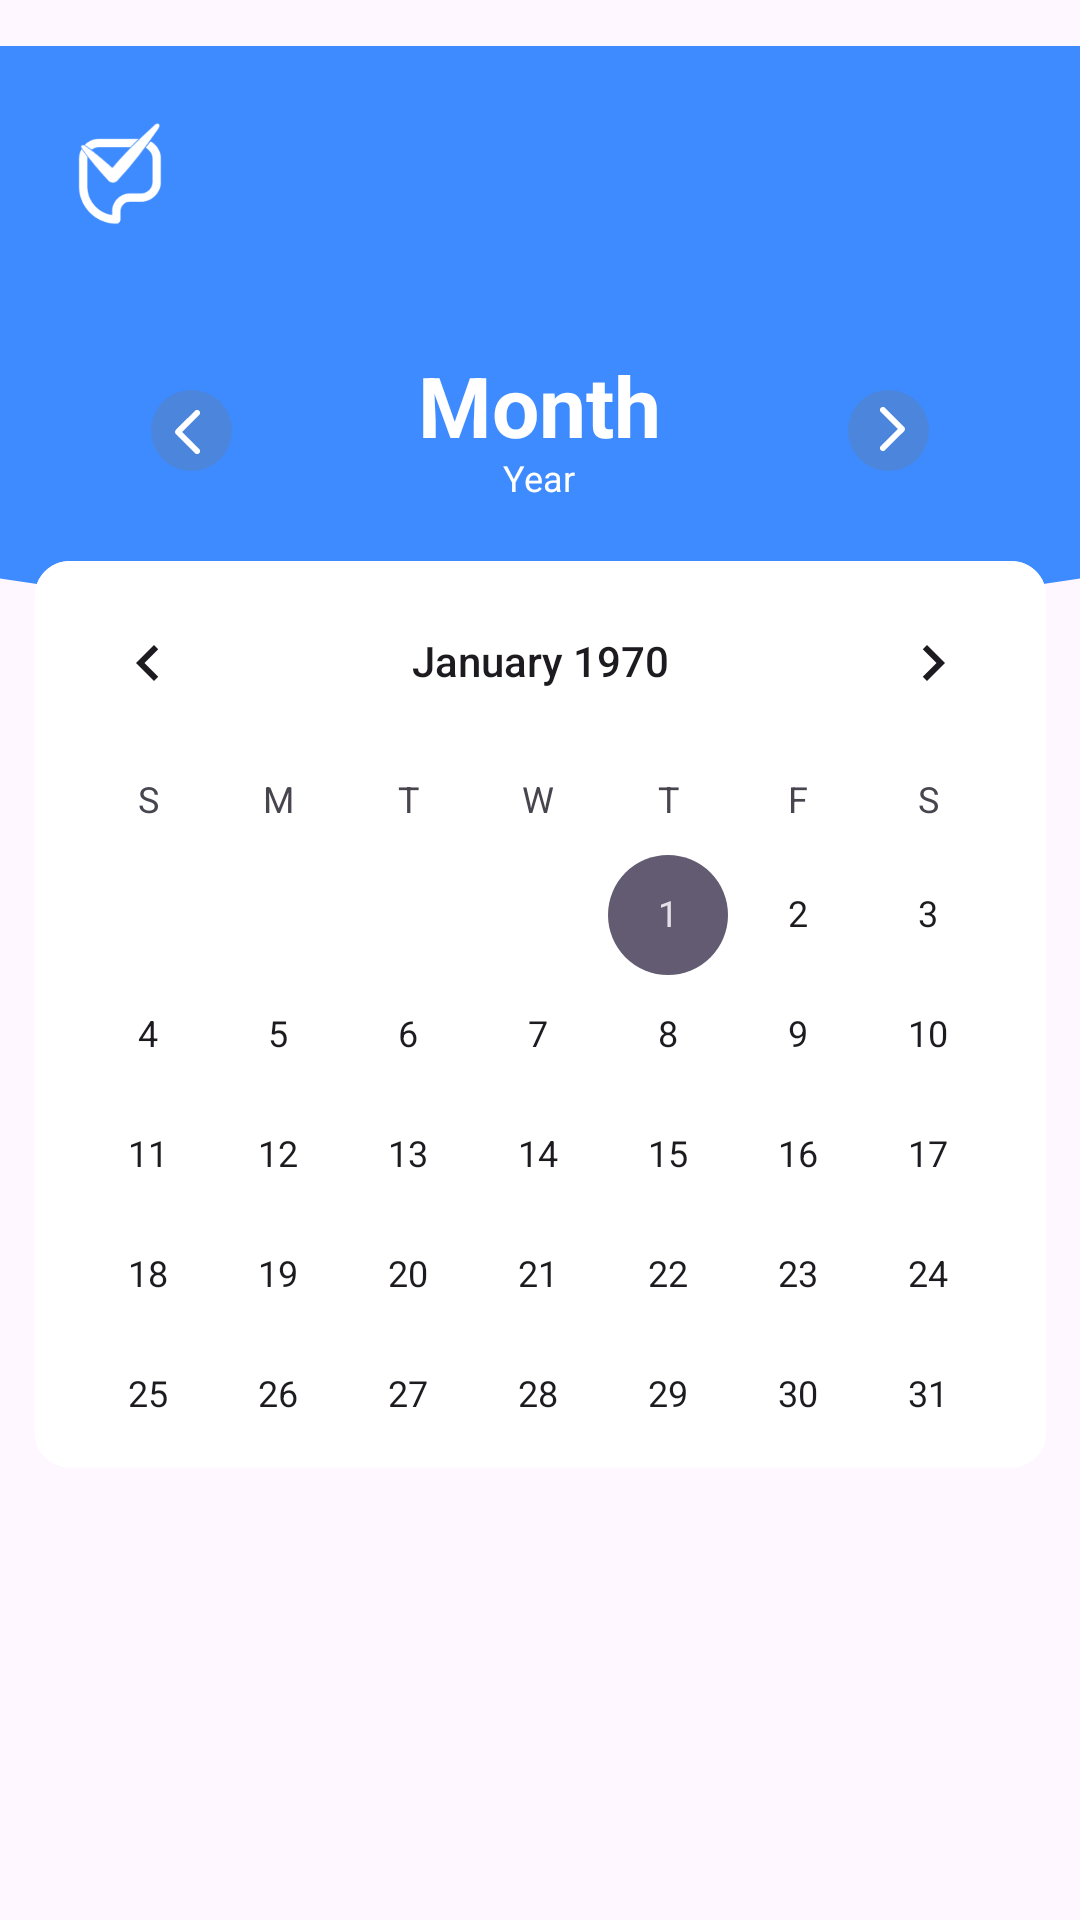

Locate icon controls on the screen. Image size 1080px×1920px, boxes as (x1, y1, x2, y2).
home calender next: (848, 390, 929, 471)
home calender previous: (151, 390, 232, 471)
